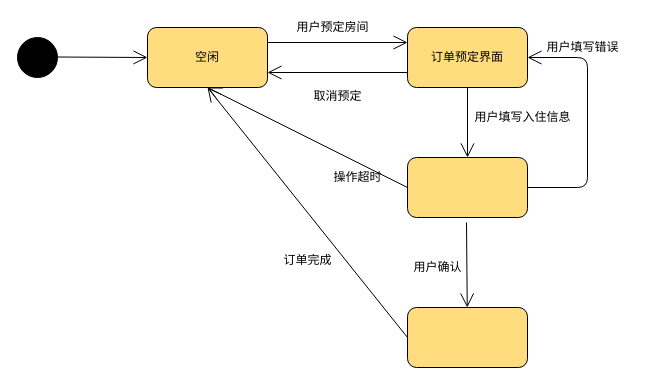
This 645x385 diagram has some shape labels left out. Each missing label, with the centre of its shape:
"显示订单信息" belongs at point (467, 187).
"生成最终订单" belongs at point (467, 337).
